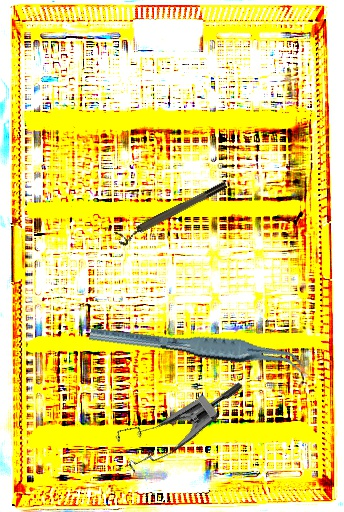Fixation Ring: (114, 179, 231, 248)
Speculum: (103, 342, 246, 492)
Tissue Forceps: (88, 302, 306, 393)
